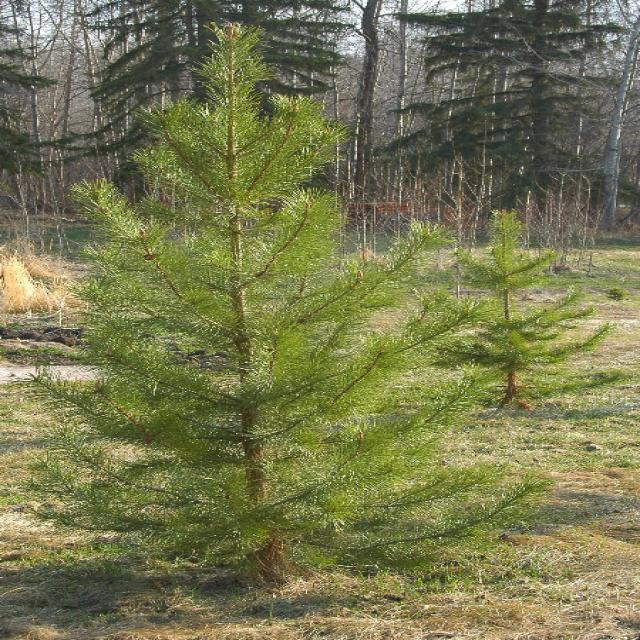Pinus contorta var: (4, 15, 574, 594), (402, 202, 640, 414)
